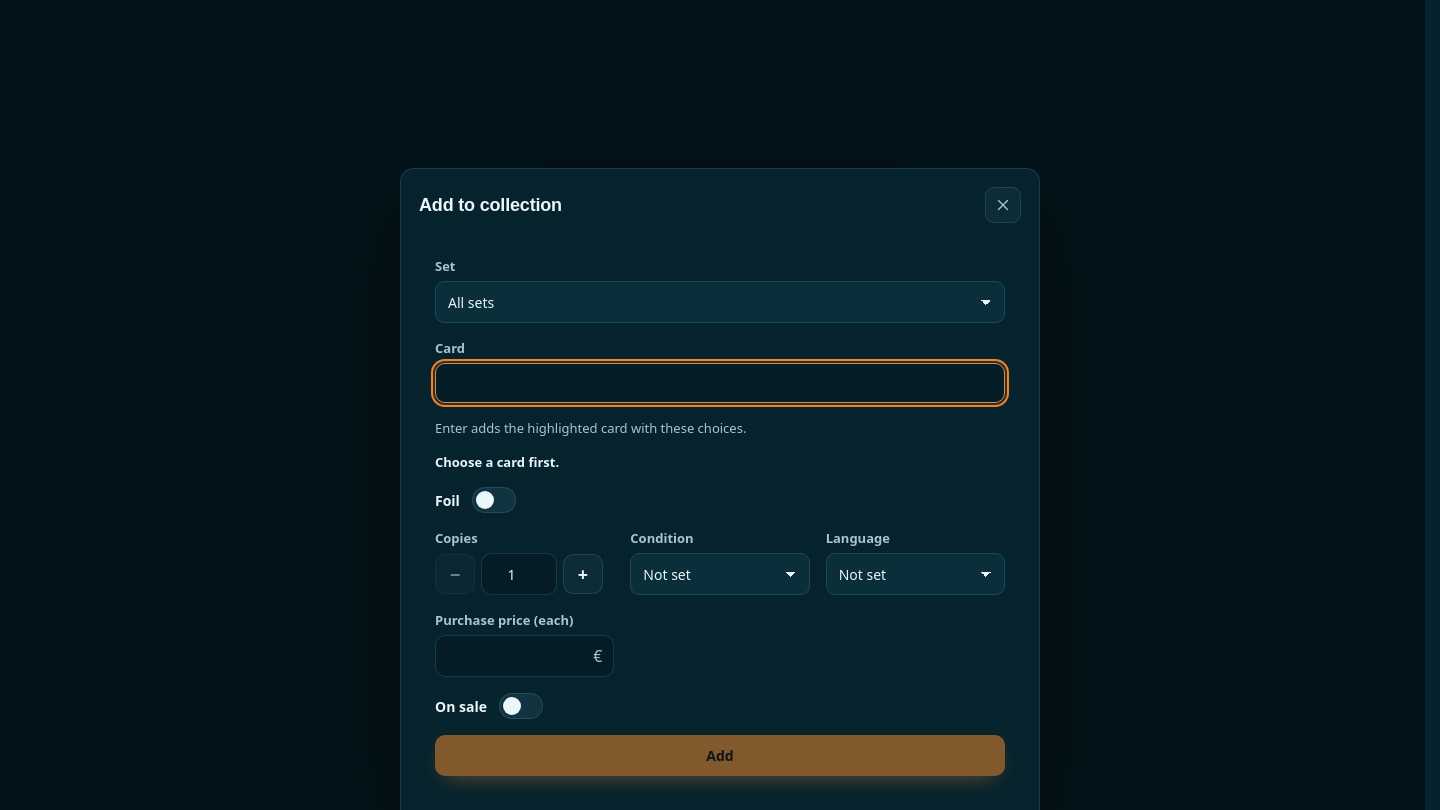
Test case: AddSheet (F3-g S7) › says so when the copies were added to an existing line
The image size is (1440, 810).
In the dropdown labelled "Card": (720, 383) x1=435 y1=363 x2=1005 y2=403, type "em"
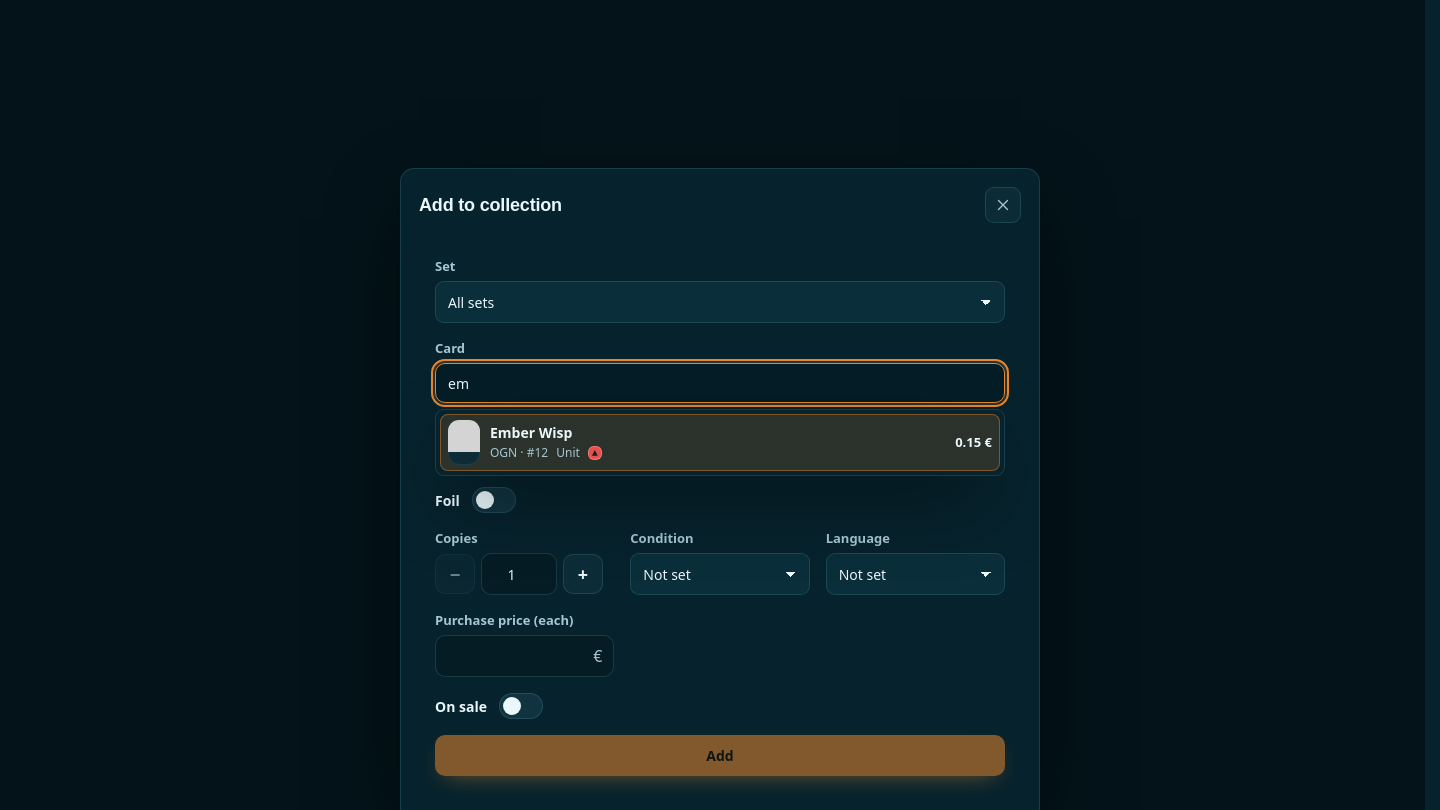
Click the option "Ember Wisp OGN · #12 Unit 0.15 €": (464, 442) x1=440 y1=414 x2=1000 y2=471
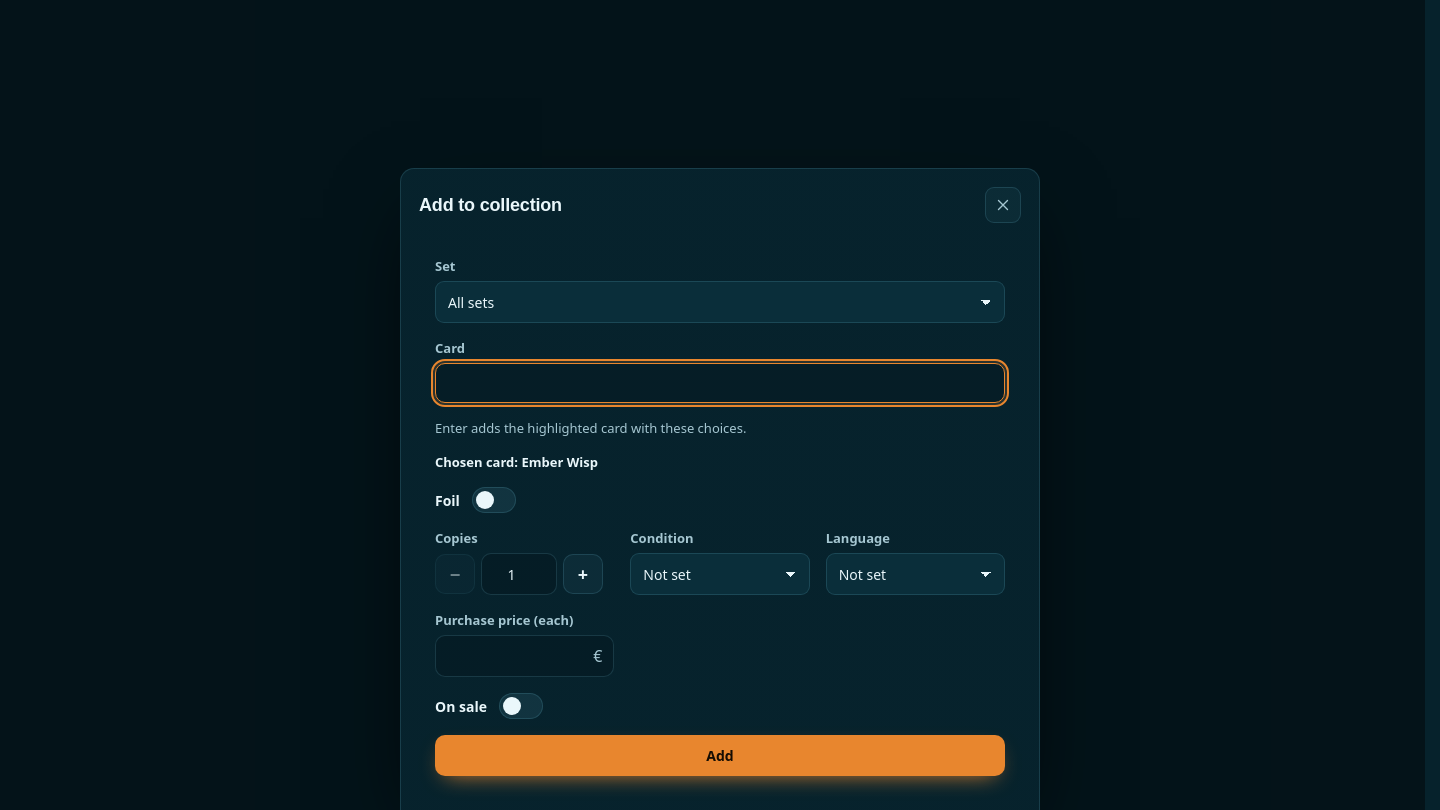
Click the button "Add": (720, 756) x1=435 y1=735 x2=1005 y2=776
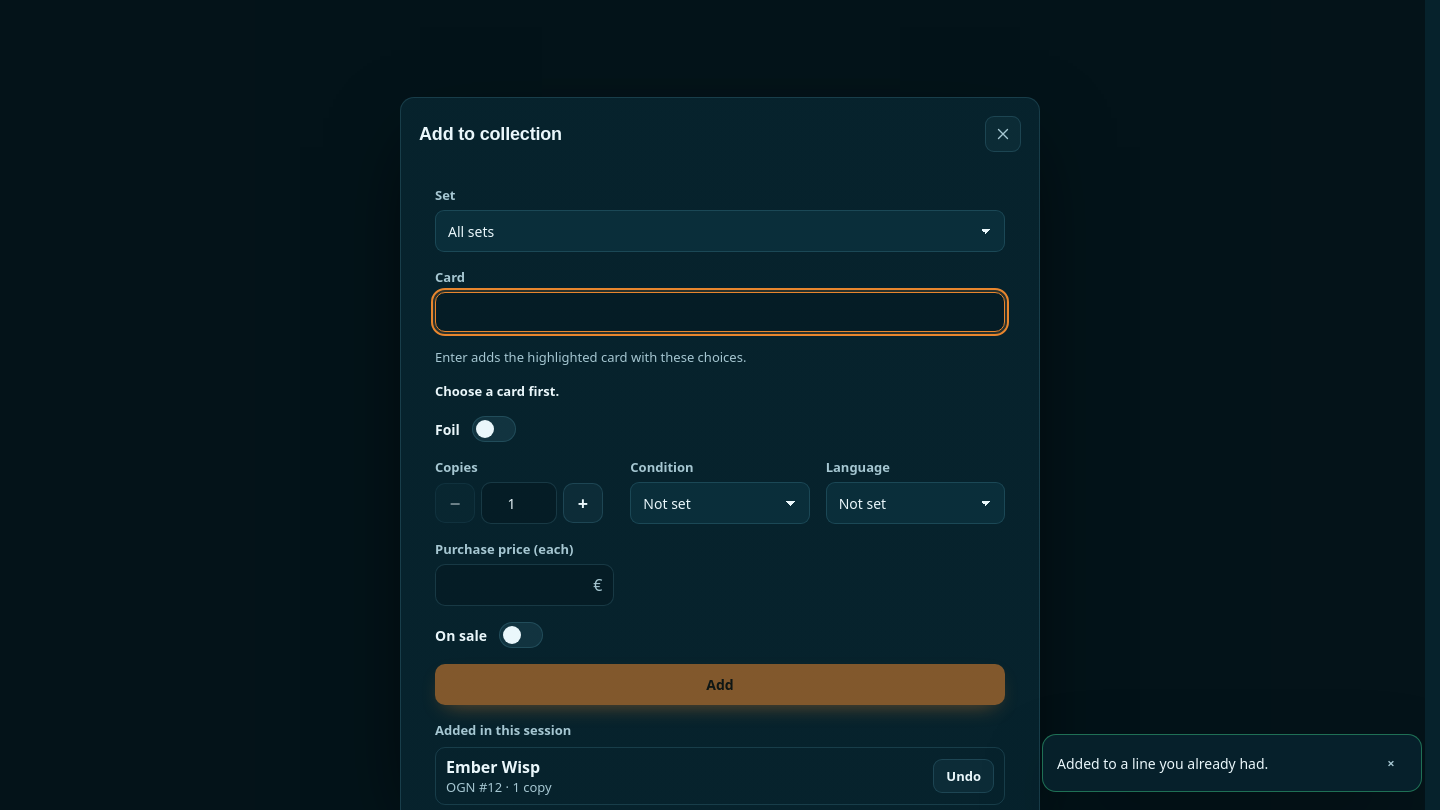
expect the text "Added to a line you already had." is shown: met, box x1=1057 y1=754 x2=1268 y2=772
